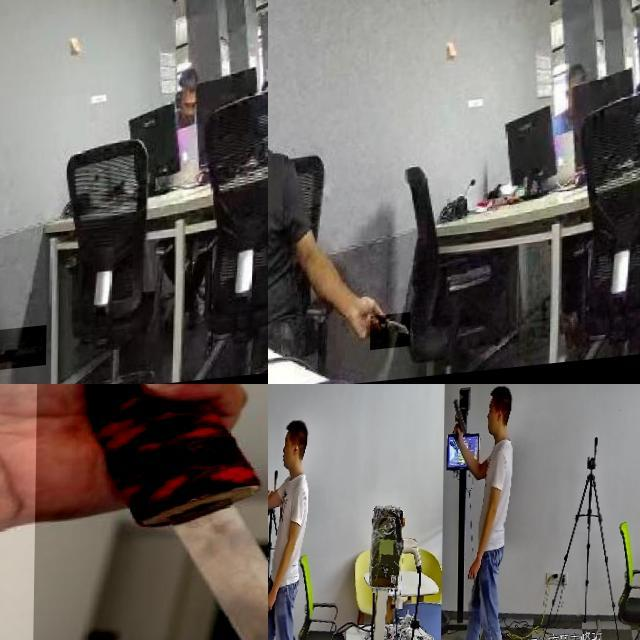-: (32, 384, 268, 640), (0, 333, 48, 378), (372, 320, 412, 358)
gun-knife-thesis - v11 Yolov5 augmented: (450, 402, 468, 446), (268, 421, 277, 476), (611, 384, 631, 408), (362, 384, 382, 401)
